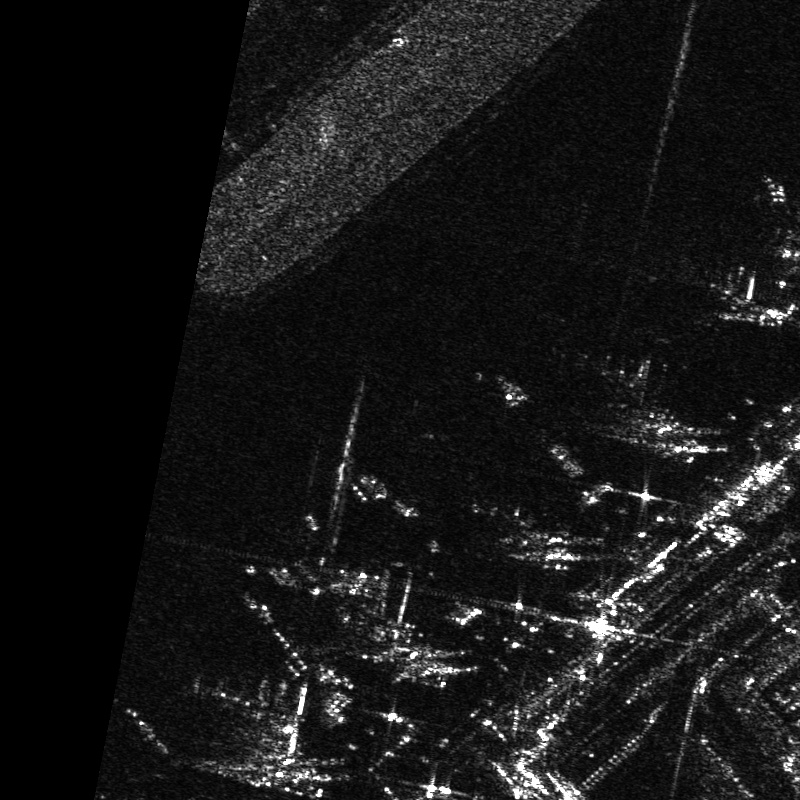Boeing737: (556, 349, 664, 446), (705, 264, 789, 329)
Boeing787: (192, 666, 309, 789), (304, 554, 411, 642)
